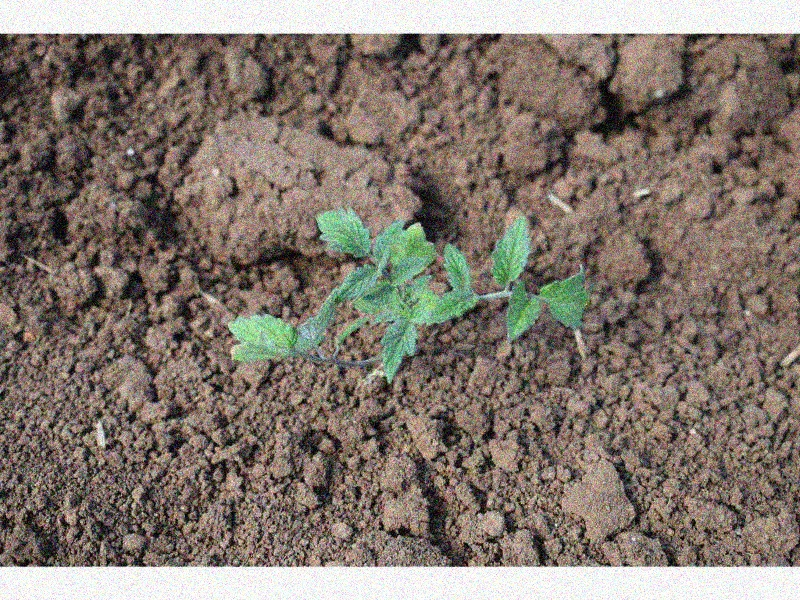tomato: (230, 209, 593, 384)
